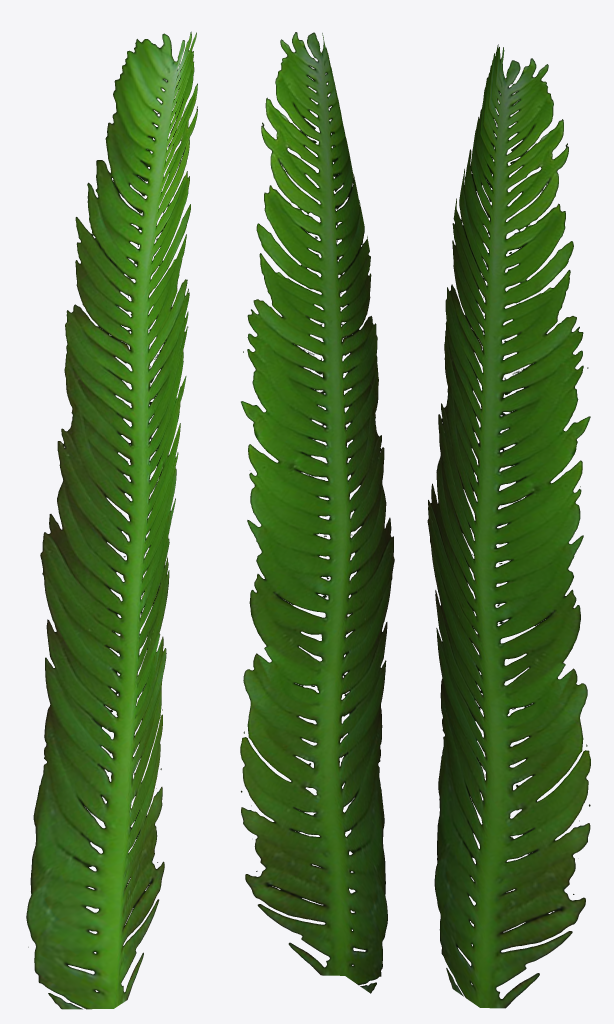
The picture shows the model from 3 angles, left to right: view 1: azimuth 30°, elevation 25°; view 2: azimuth 150°, elevation 25°; view 3: azimuth 330°, elevation 25°; orthographic projection. The views are drawn at different scales.
Parts seen in each view (by area): view 1: Caulerpa_Taxifolia.003; view 2: Caulerpa_Taxifolia.003; view 3: Caulerpa_Taxifolia.003.
Boxes of the visible parts, left/top/right/bottom form: Caulerpa_Taxifolia.003: left=26, top=31, right=197, bottom=1009; Caulerpa_Taxifolia.003: left=240, top=32, right=394, bottom=993; Caulerpa_Taxifolia.003: left=427, top=44, right=590, bottom=1008.
Size of the model in its own units: 0.0273 by 0.1509 by 0.015.
1 material, 1 textured.
